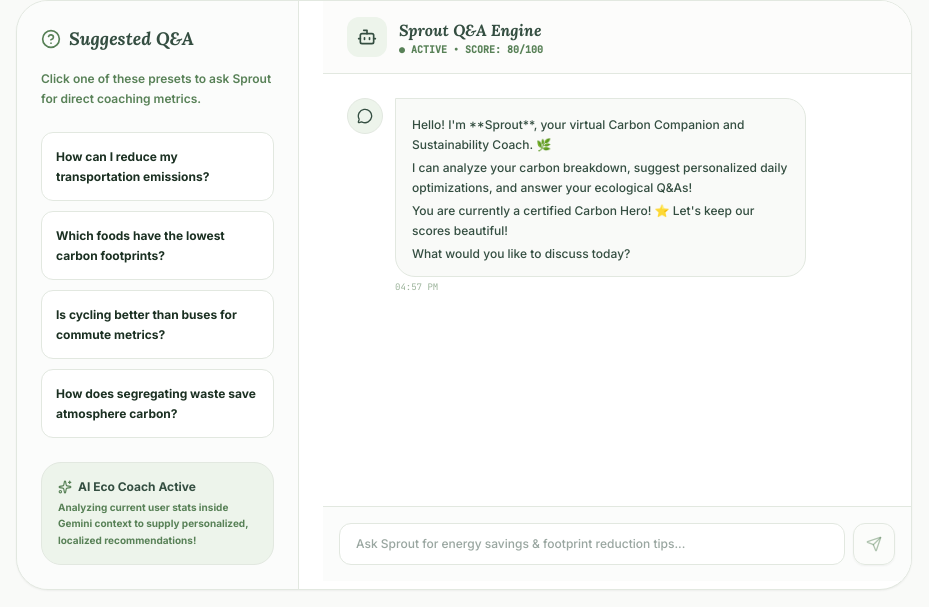
Voice Assistant & Conversational Gemini AI tests › renders chatbot UI correctly and supports sending messages
Expected: the heading "Sprout Q&A Engine" is shown, [399,18,543,42]
Type a message
Type "How do I reduce my food waste?" into the field with placeholder "Ask Sprout for energy savings & footprint reduction tips...".
click(592, 544); type("How do I reduce my food waste?")  # box [339,523,845,565]
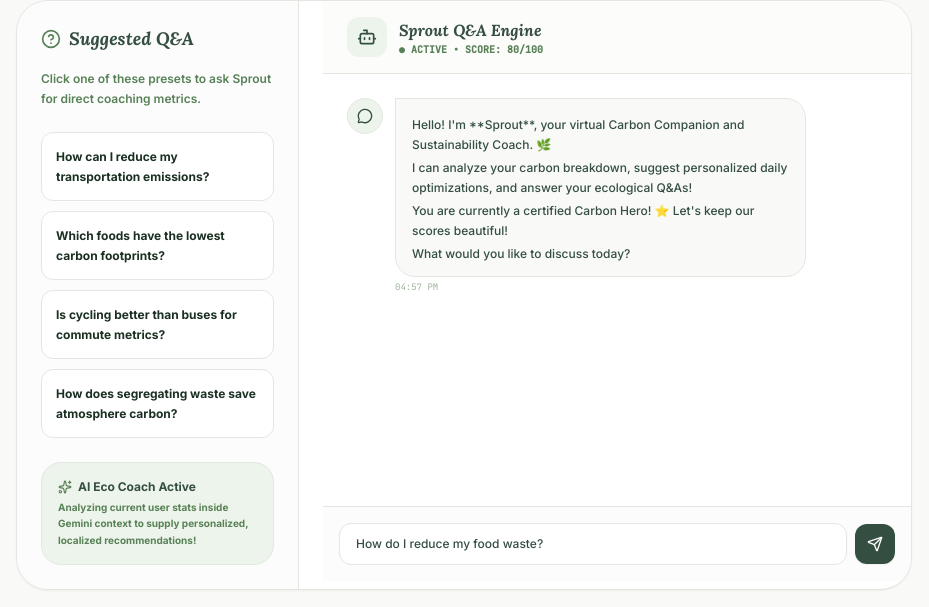
Click the submit button.
click(875, 544)  # box [855,524,895,564]
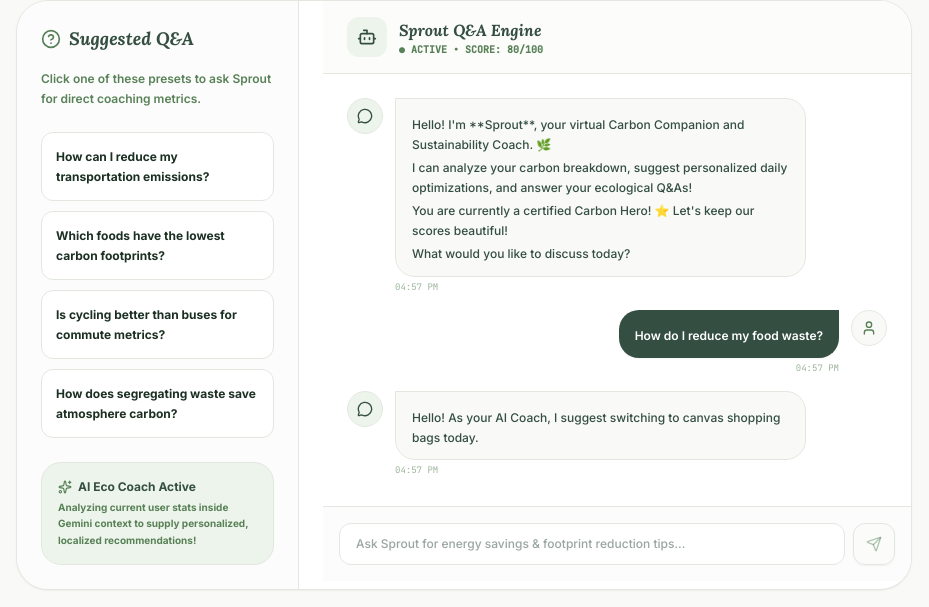
Expected: the text "Hello! As your AI Coach" is shown, [412,410,784,444]
